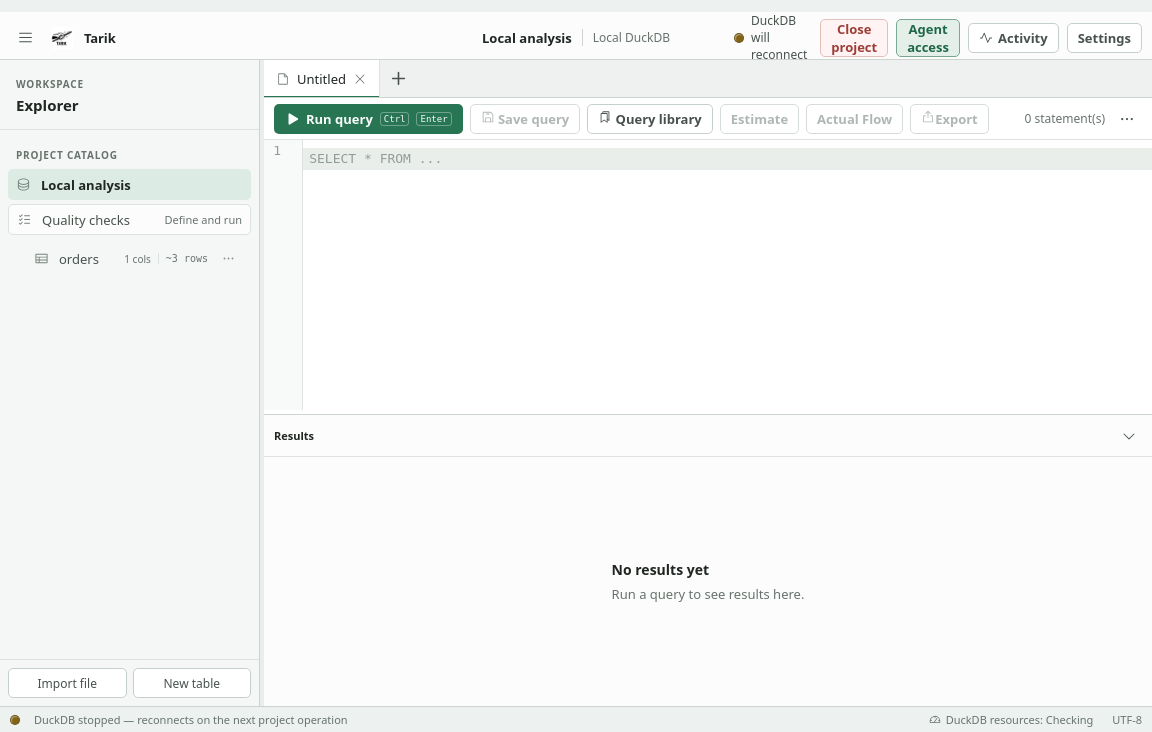
Test case: Tarik workbench shell › switches directly from Quality checks to Profile from a table menu
Click the button "Quality checks Define and run" at [130, 220], box left=8, top=204, right=251, bottom=235
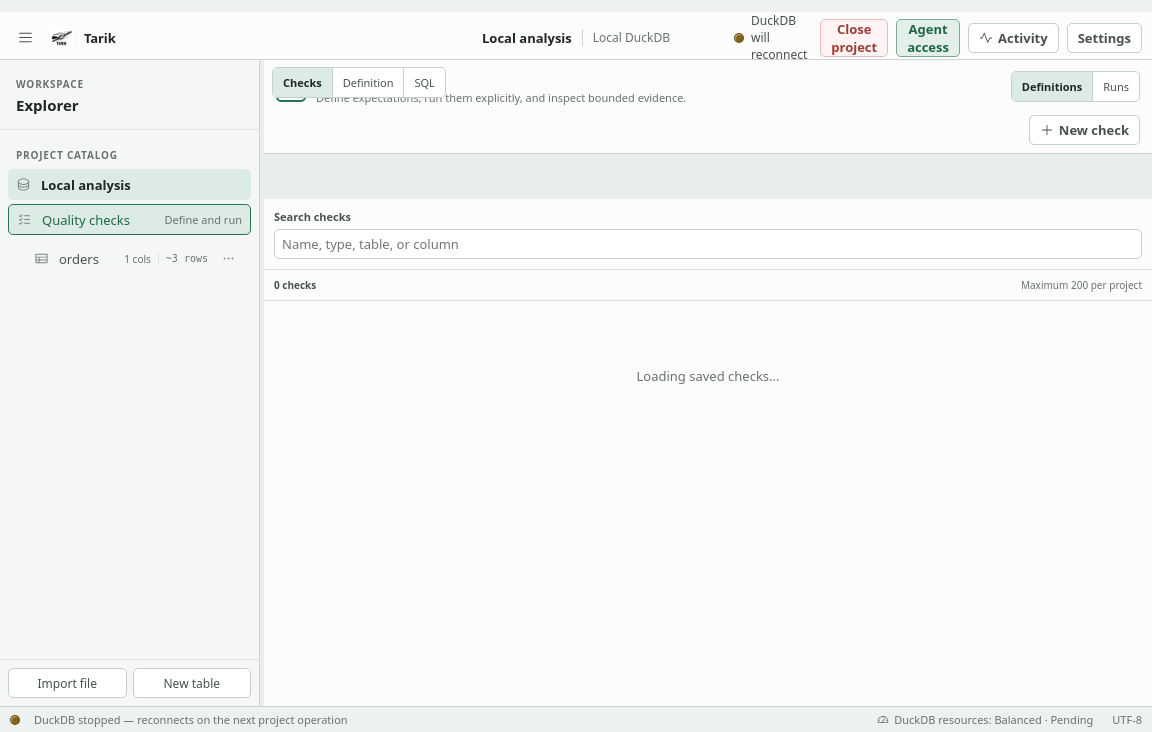
Expected: the element named "Quality checks workspace" is shown
Press the mouse on the button named "orders table actions" at [228, 258], box left=215, top=246, right=241, bottom=272
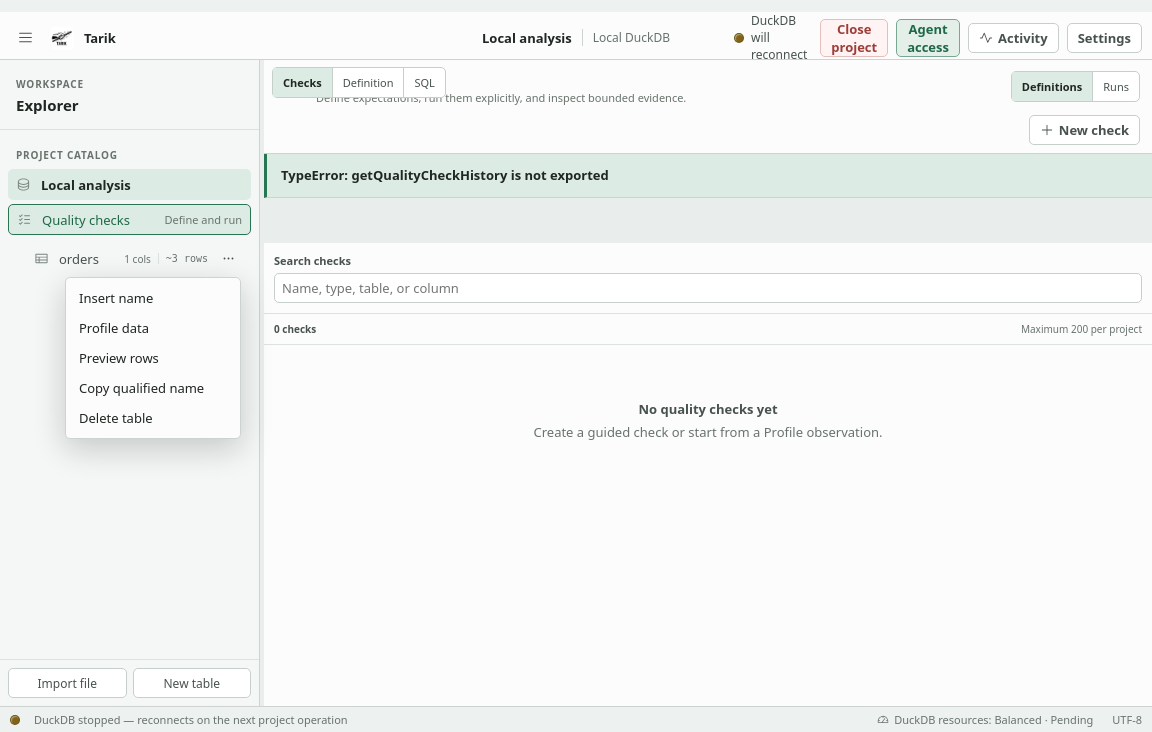
Click the menu item "Profile data" at [114, 328], box left=79, top=319, right=149, bottom=337
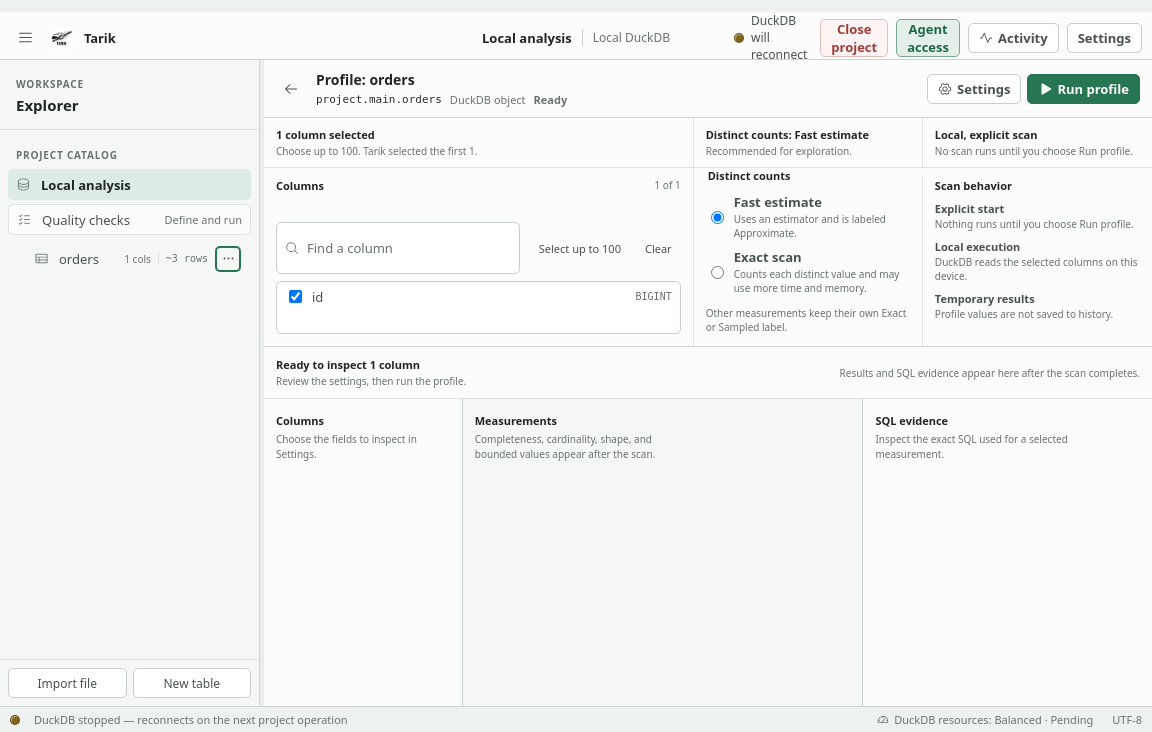
Expected: the element named "Profile orders" is shown
